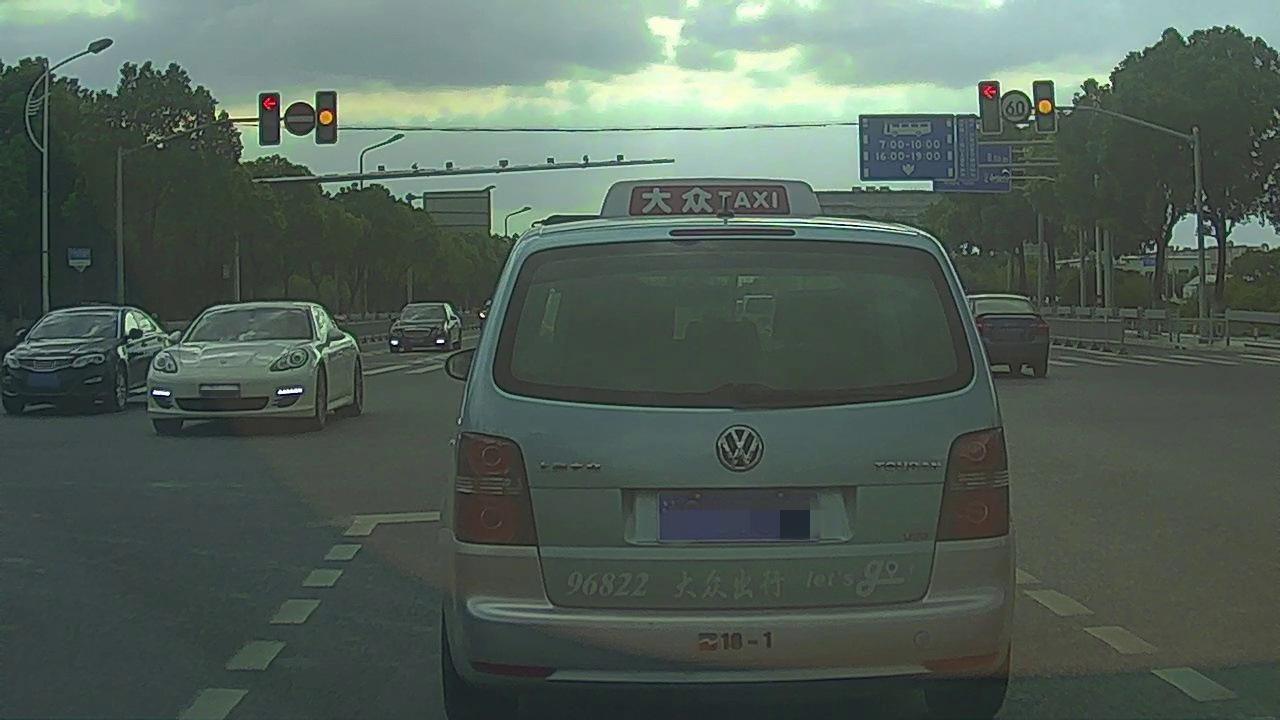traffic_light: (257, 91, 281, 147), (316, 88, 338, 144), (1033, 81, 1055, 133), (980, 80, 1000, 134)
